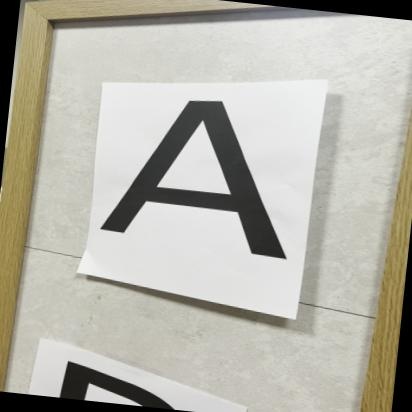seat: (103, 84, 322, 276)
